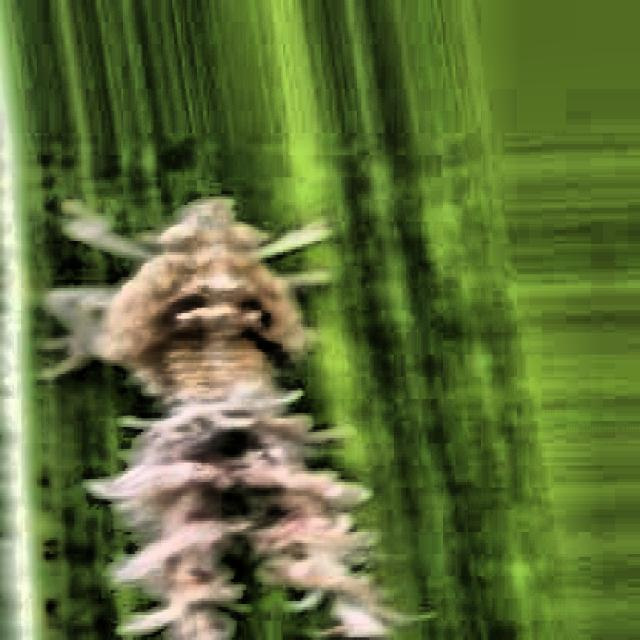Pyrilla-perpusilla: (62, 160, 383, 640)
